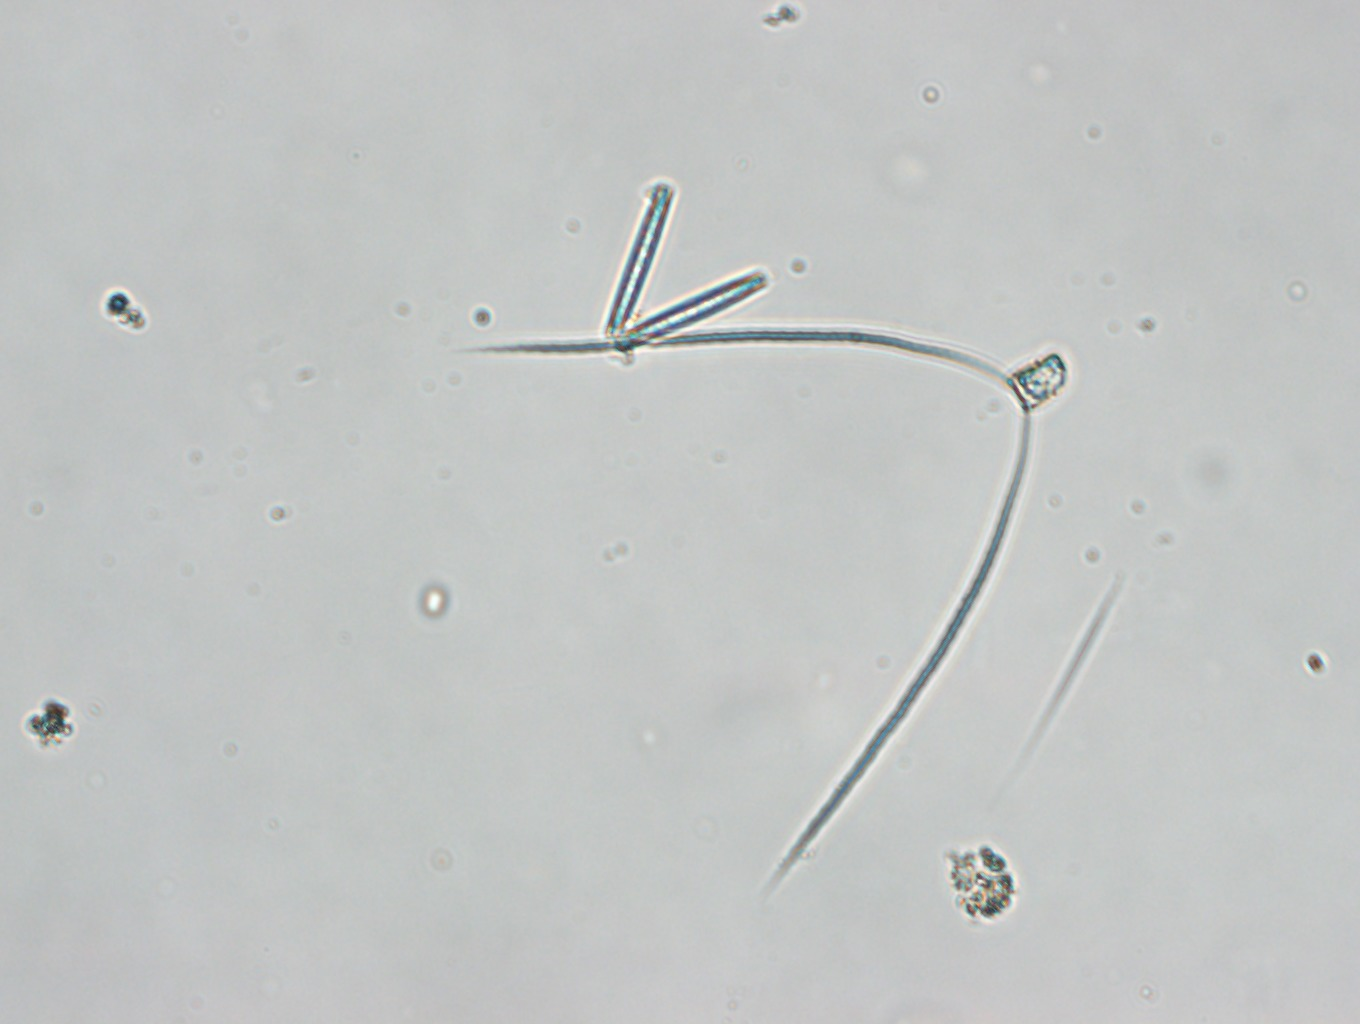chaetoceros: (483, 327, 1086, 904)
thalassionema frauenfeldii: (600, 176, 767, 355)
